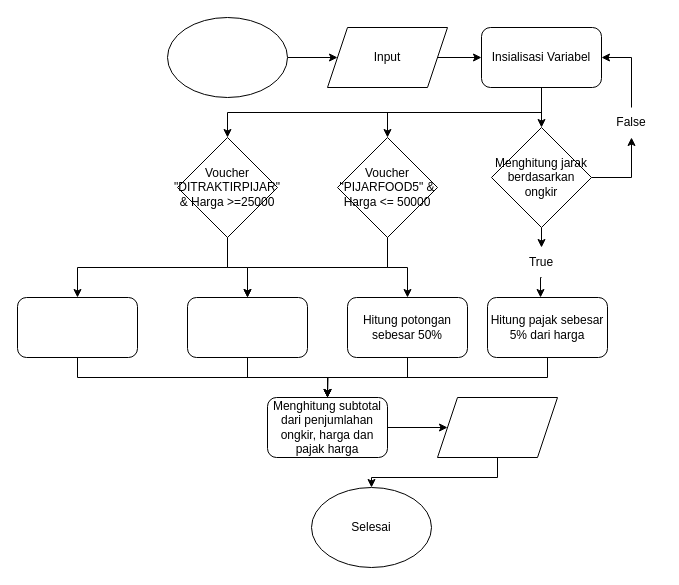
The diagram is 679 pixels wide and 585 high, and some of its shapes have lost their labels. Each missing label, with the box of its shape:
Hitung potongan sebesar 60%: (16, 296, 138, 358)
Kurangi potongan dari harga: (186, 296, 308, 358)
Output: (436, 396, 558, 458)
Start: (166, 16, 288, 98)
